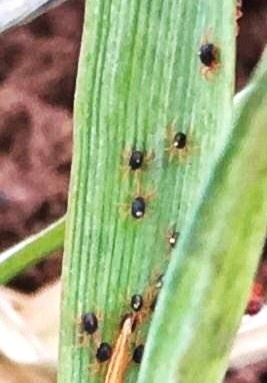Wheat Red Spider: (99, 110, 198, 230)
